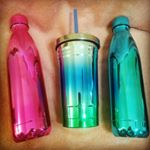cups: (51, 31, 104, 132)
